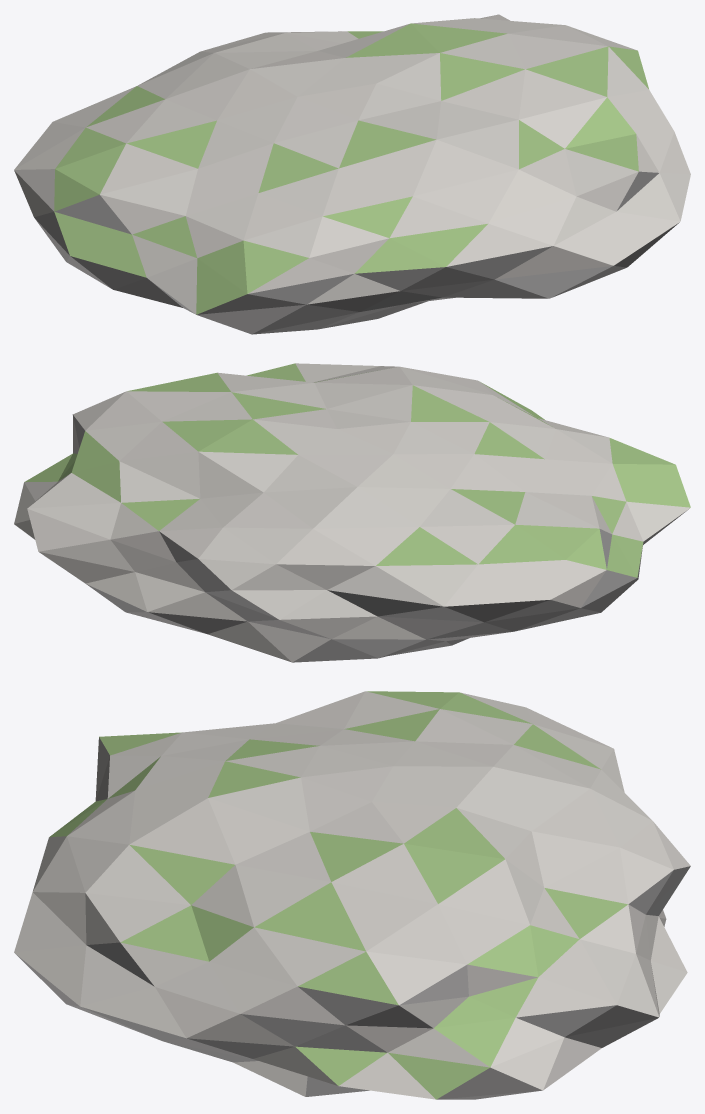
File: FlatSlab.glb
The picture shows the model from 3 angles, top to bottom: view 1: azimuth 30°, elevation 25°; view 2: azimuth 150°, elevation 25°; view 3: azimuth 270°, elevation 25°; orthographic projection. The views are drawn at different scales.
Visible parts, largest first — view 1: FlatSlab_Slab; view 2: FlatSlab_Slab; view 3: FlatSlab_Slab.
Part boxes in pixels (x1=…): FlatSlab_Slab: x1=14, y1=14, x2=690, y2=334; FlatSlab_Slab: x1=14, y1=363, x2=690, y2=662; FlatSlab_Slab: x1=14, y1=691, x2=690, y2=1099.
Size of the model in its own units: 3.08 by 0.8087 by 2.57.
